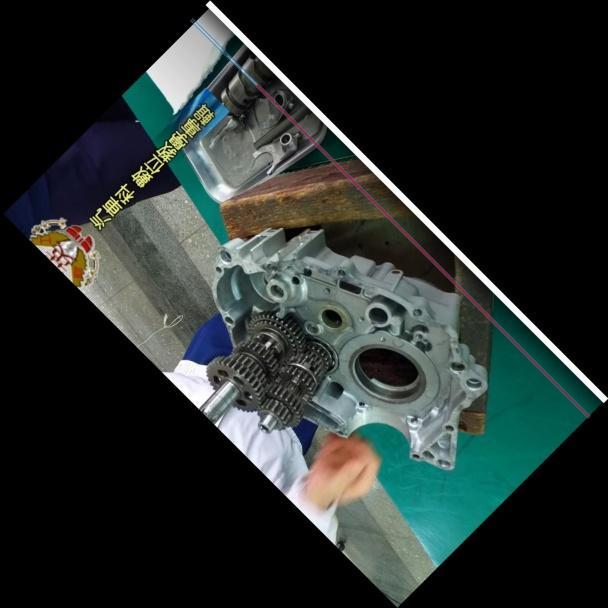hole: (446, 355, 466, 375), (334, 264, 348, 279), (412, 328, 425, 341), (376, 333, 387, 344), (321, 284, 332, 295), (355, 312, 365, 323)
